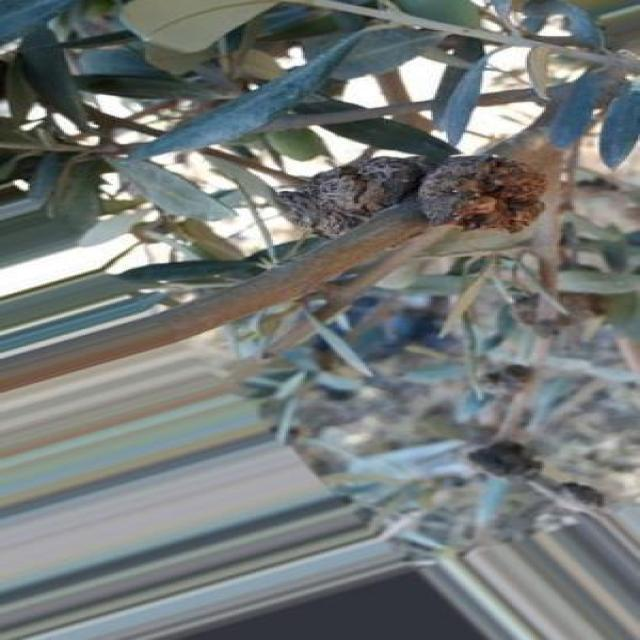Tuberculosis: (277, 157, 428, 221), (418, 158, 546, 232)
